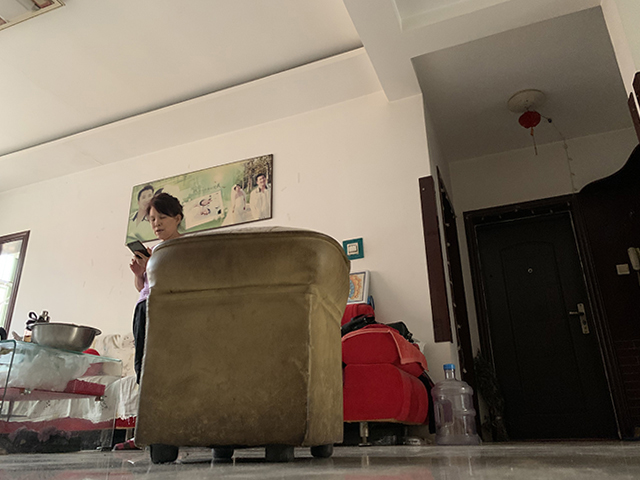stool: (136, 224, 353, 466)
table: (1, 338, 125, 450)
